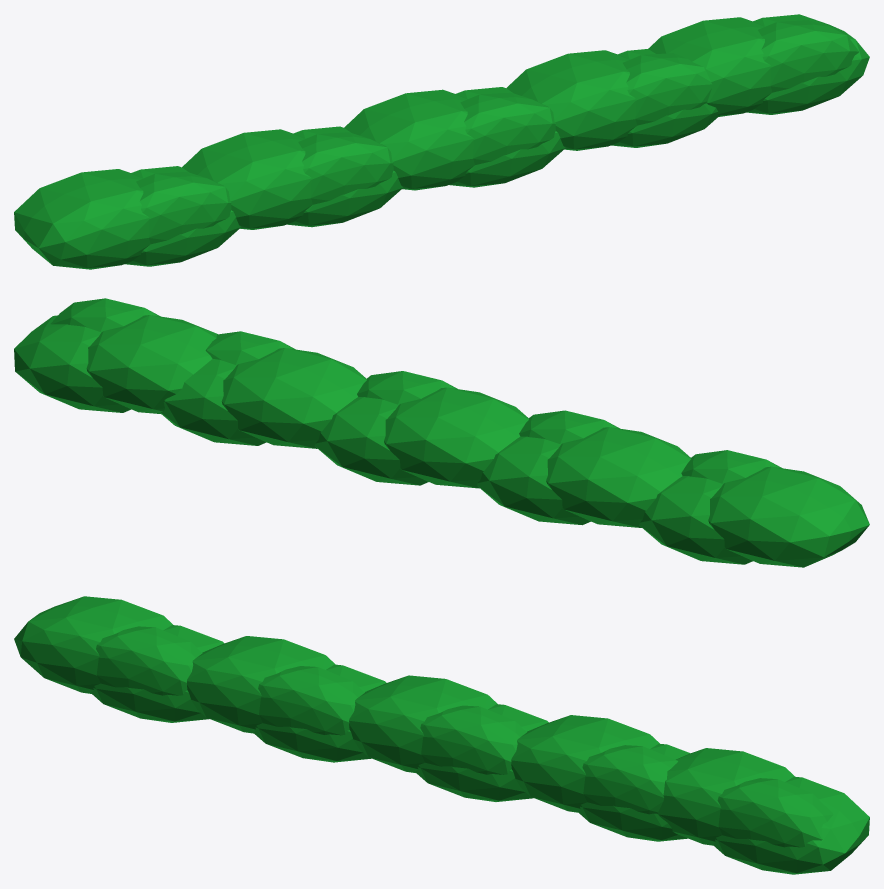
Rendered from Bush1Wall.fbx.
3 views of the same model, one above another, from view 1: azimuth 30°, elevation 25°; view 2: azimuth 150°, elevation 25°; view 3: azimuth 330°, elevation 25° (orthographic).
Visible parts, largest first — view 1: Icosphere.001; view 2: Icosphere.001; view 3: Icosphere.001.
Part boxes in pixels (box(x1,y1,x2,y2)): Icosphere.001: box(14, 14, 869, 269); Icosphere.001: box(14, 298, 869, 567); Icosphere.001: box(14, 596, 869, 874).
Bounding box in the file's own units: 3075 × 284 × 394.
1 material, 1 textured.
